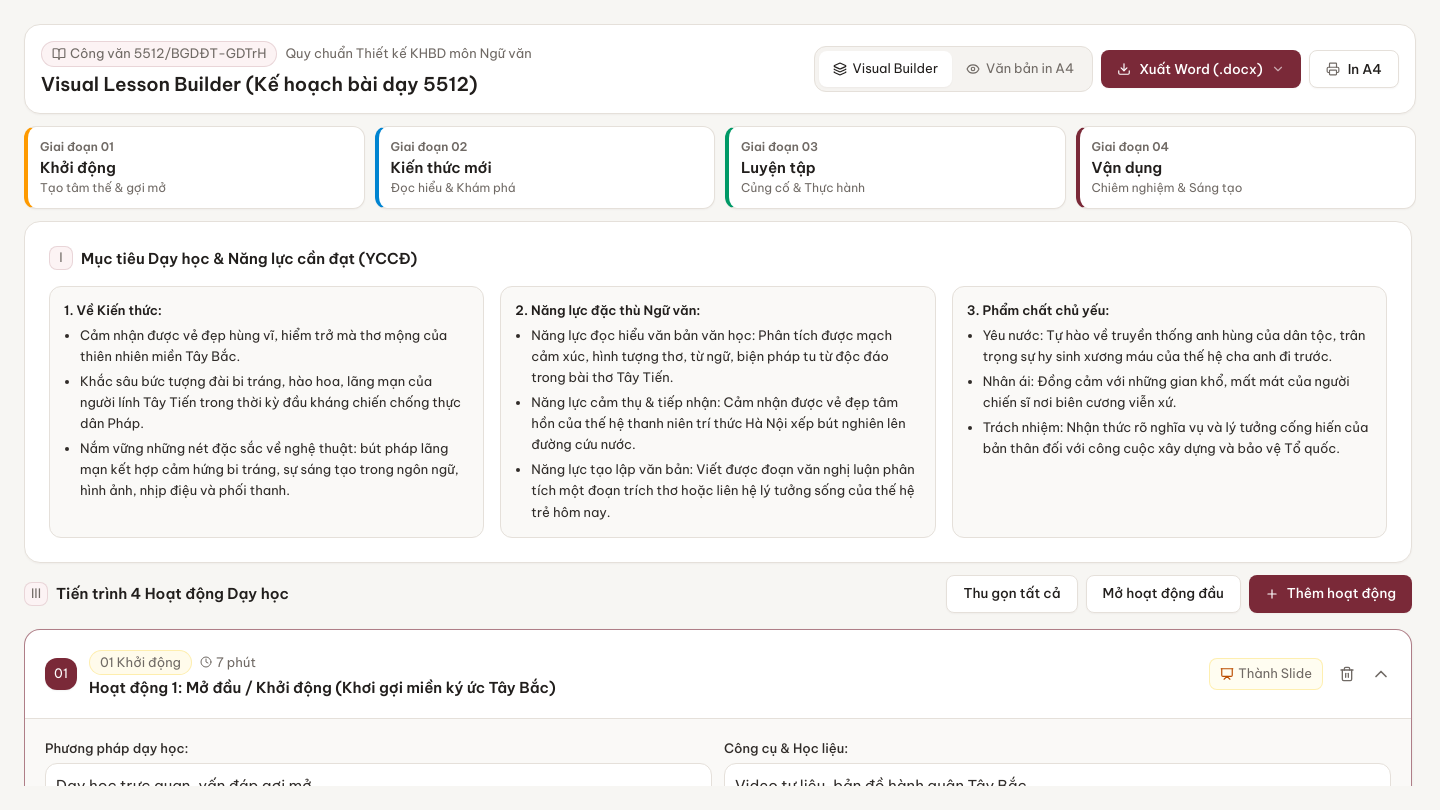
Test: Functional: KHBD 5512 Builder & Document Viewer › View Mode Switching & Administrative Headers › switches between Visual Builder and Document View
This screenshot has width=1440, height=810.
Expected: the button "Visual Builder" is shown, [818,51,952,87]
// Click Văn bản in A4 (Document View)
Click the button "Văn bản in A4" at (1020, 69), box [952,51,1088,87]
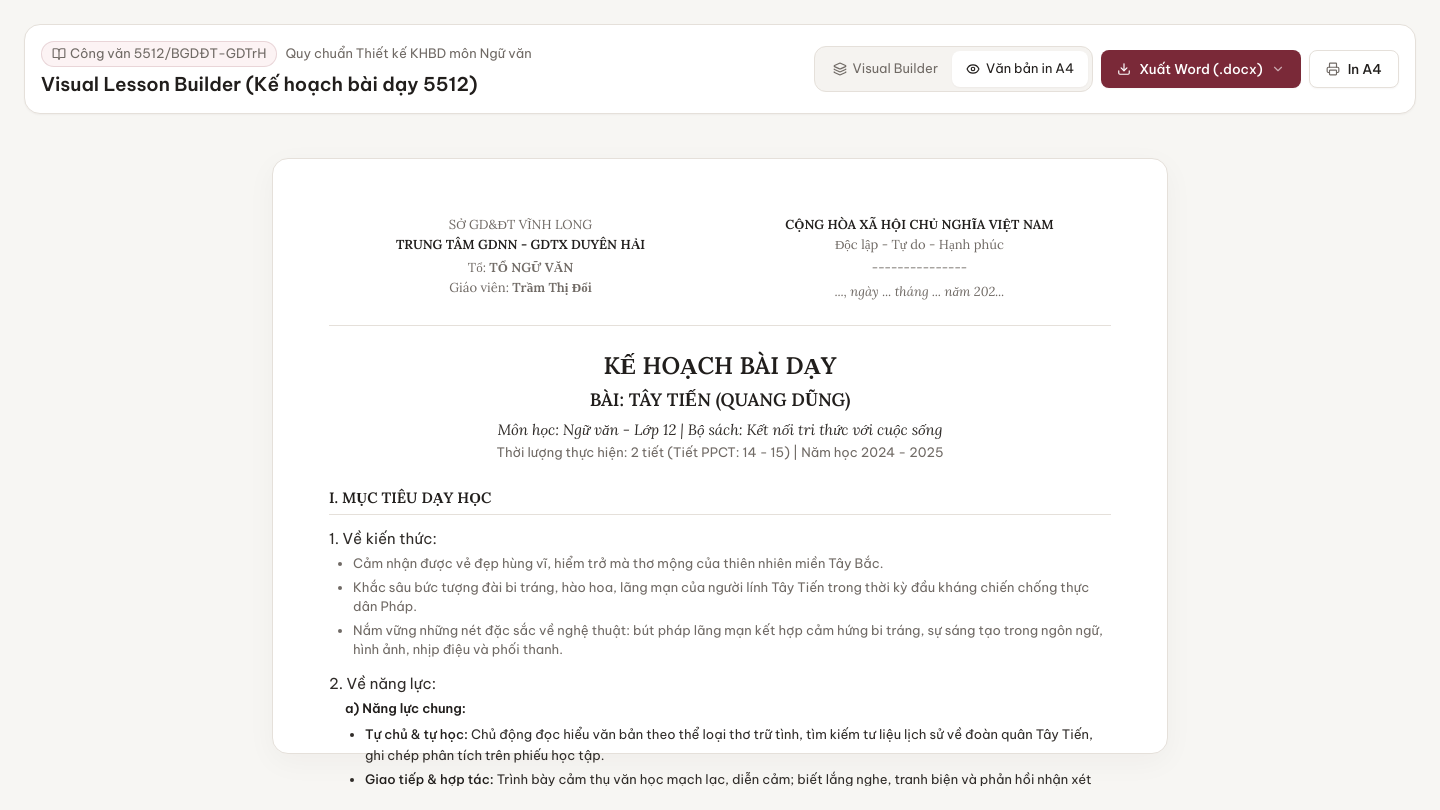
Expected: the heading "Visual Lesson Builder (Kế hoạch bài dạy 5512)" is shown, [41,70,532,97]
Expected: the text "Trung tâm GDNN - GDTX Duyên Hải" is shown, [396,236,645,253]
Expected: the text "Trầm Thị Đổi" is shown, [512,279,592,296]
